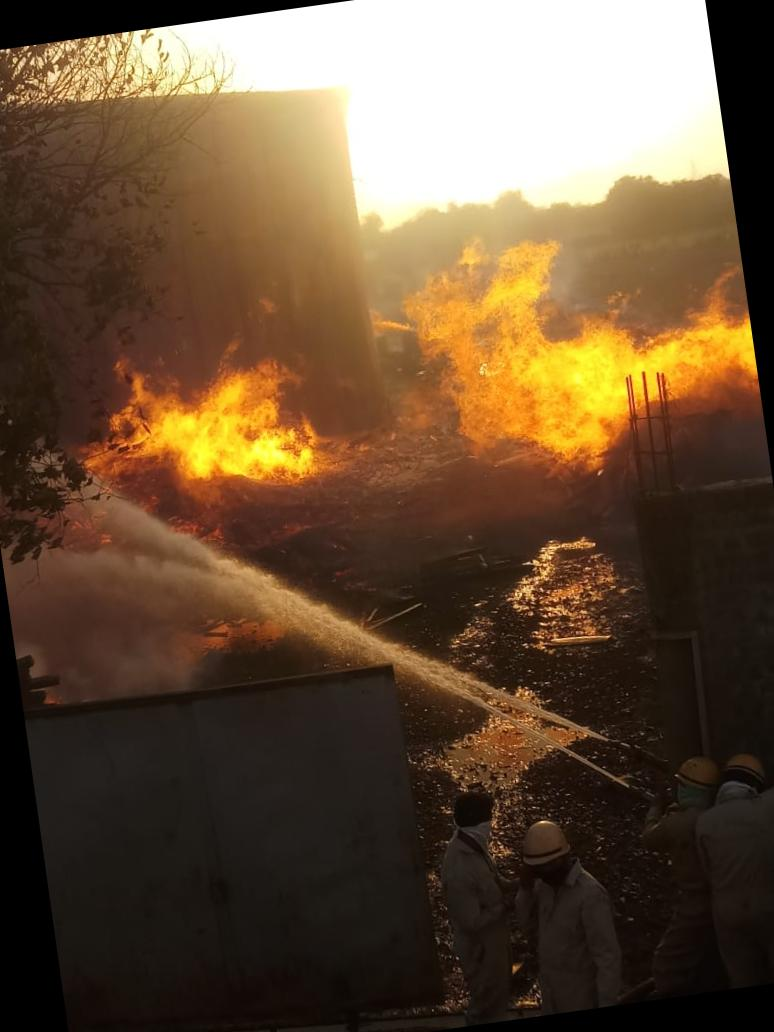Fire: (362, 199, 768, 500), (67, 332, 328, 510)
